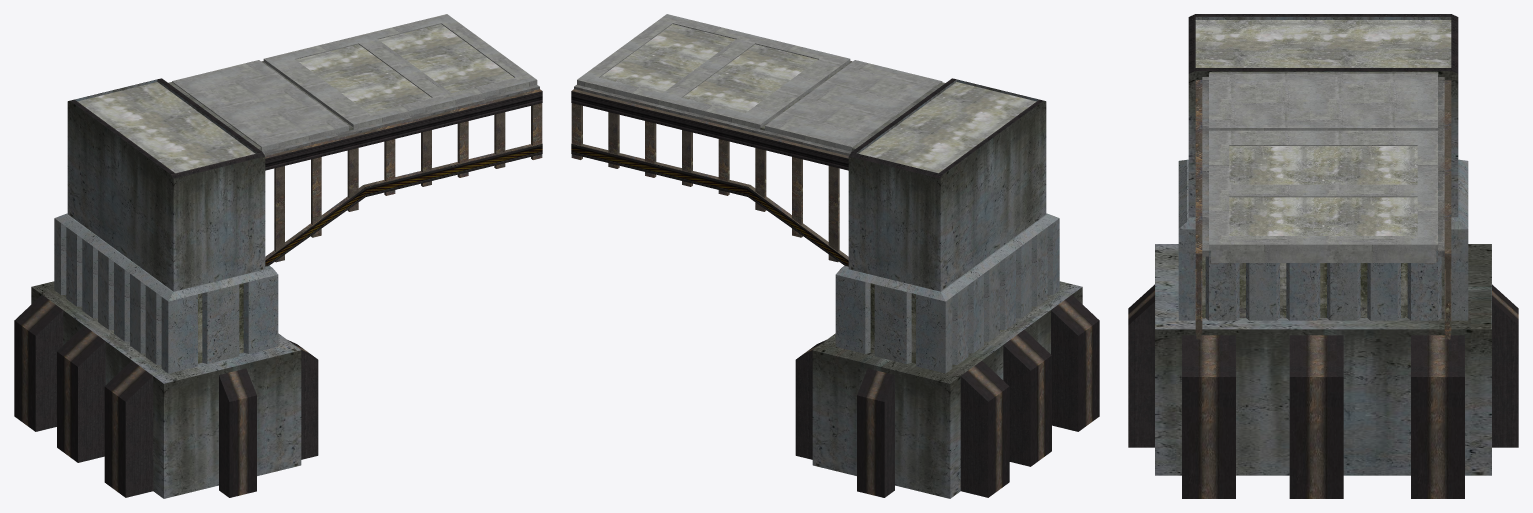
The model's file is bridge7.fbx.
3 views of the same model, side by side, from view 1: azimuth 30°, elevation 25°; view 2: azimuth 150°, elevation 25°; view 3: azimuth 270°, elevation 25° (orthographic). The views are drawn at different scales.
Visible parts, largest first — view 1: Object; view 2: Object; view 3: Object.
Part boxes in pixels (x1,y1,x2,y2): Object: [14, 14, 542, 498]; Object: [571, 14, 1099, 498]; Object: [1128, 14, 1518, 498].
Size of the model in its own units: 9203 by 6500 by 5800.
